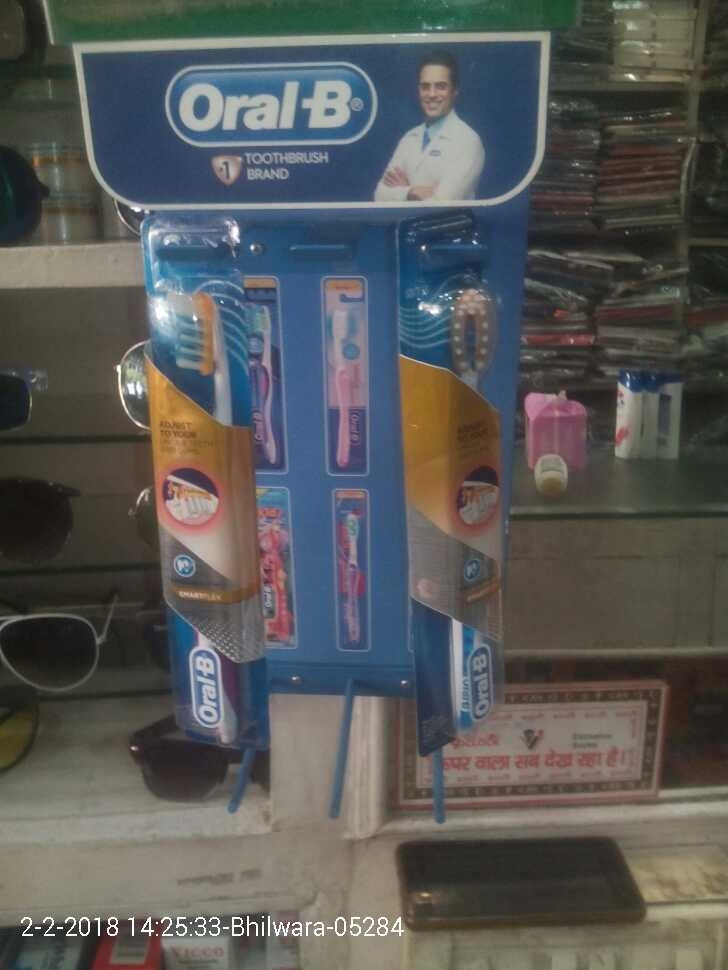oralb: (137, 241, 253, 755), (403, 218, 508, 752)
